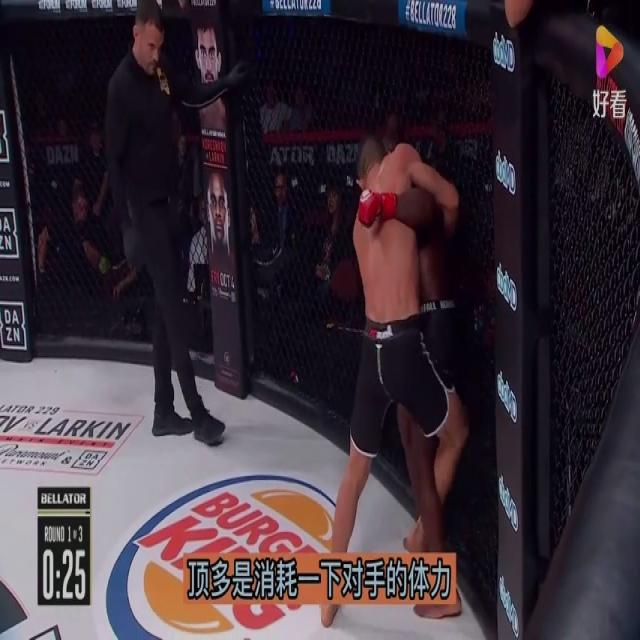fight: (337, 115, 475, 639)
non-fight: (95, 1, 282, 452)
